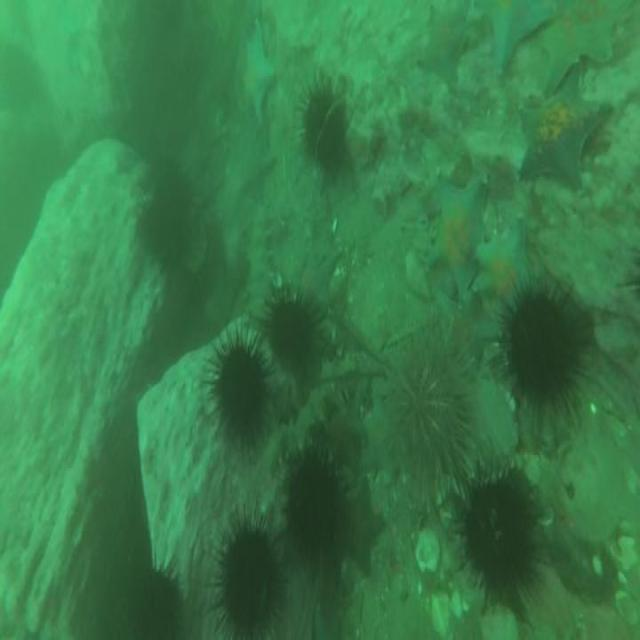echinus: (392, 352, 463, 483), (463, 476, 532, 588), (217, 526, 277, 634), (510, 292, 574, 392), (285, 450, 338, 555), (211, 346, 265, 438), (137, 187, 192, 259), (300, 90, 344, 166), (266, 304, 314, 366), (132, 576, 180, 638)
holothurian: (246, 207, 275, 321)
starfish: (513, 68, 611, 186), (426, 168, 485, 296), (538, 11, 618, 96), (476, 0, 556, 70), (476, 221, 535, 302), (443, 289, 501, 359), (341, 476, 383, 570), (236, 18, 276, 116), (423, 5, 467, 91), (329, 398, 367, 466)
